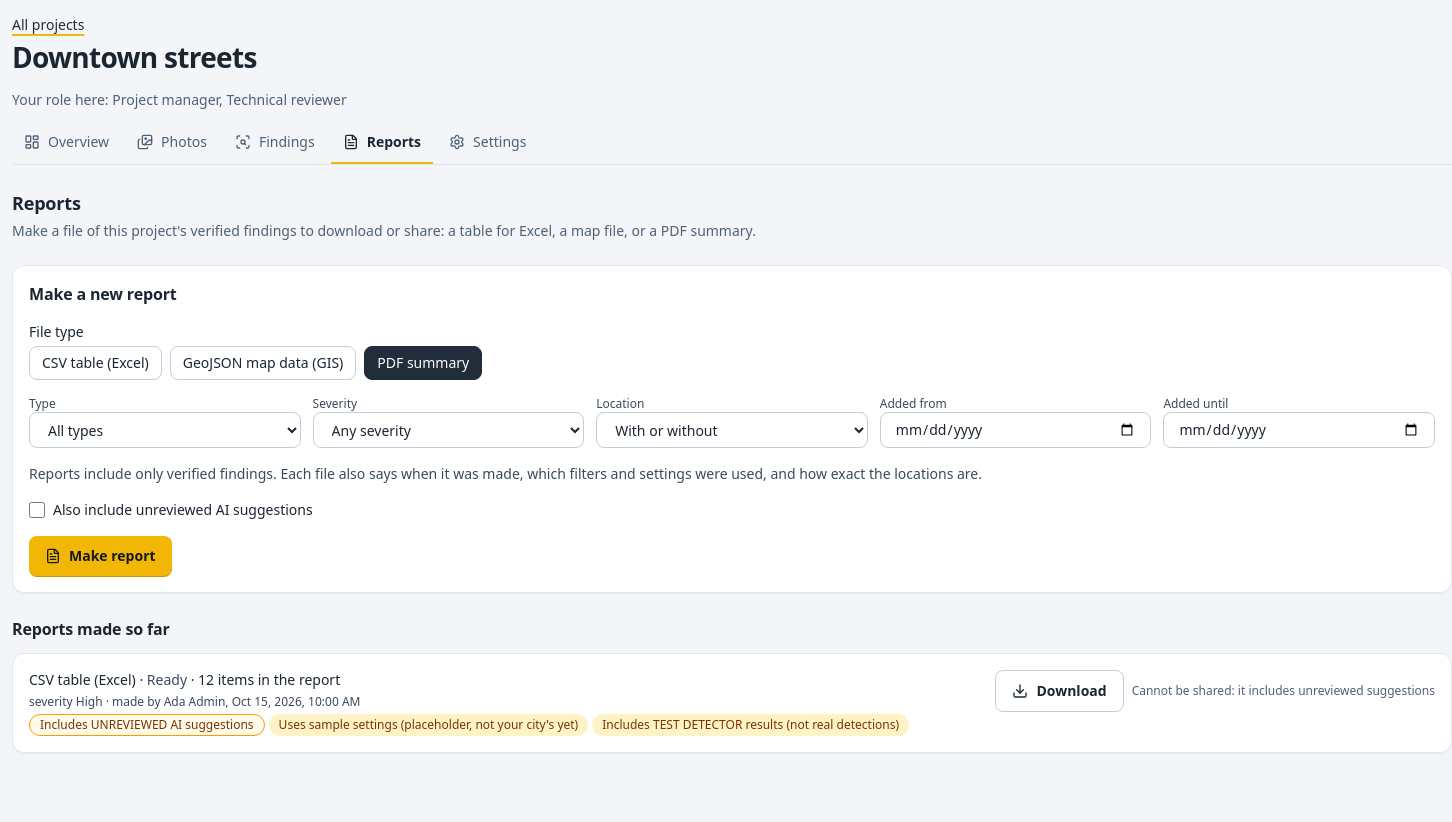
Test case: Reports › warns prominently when unreviewed data is included and never offers sharing for it
This screenshot has width=1452, height=822.
Click the checkbox labelled "Also include unreviewed AI suggestions" at (37, 510), box 29,502 -> 45,518
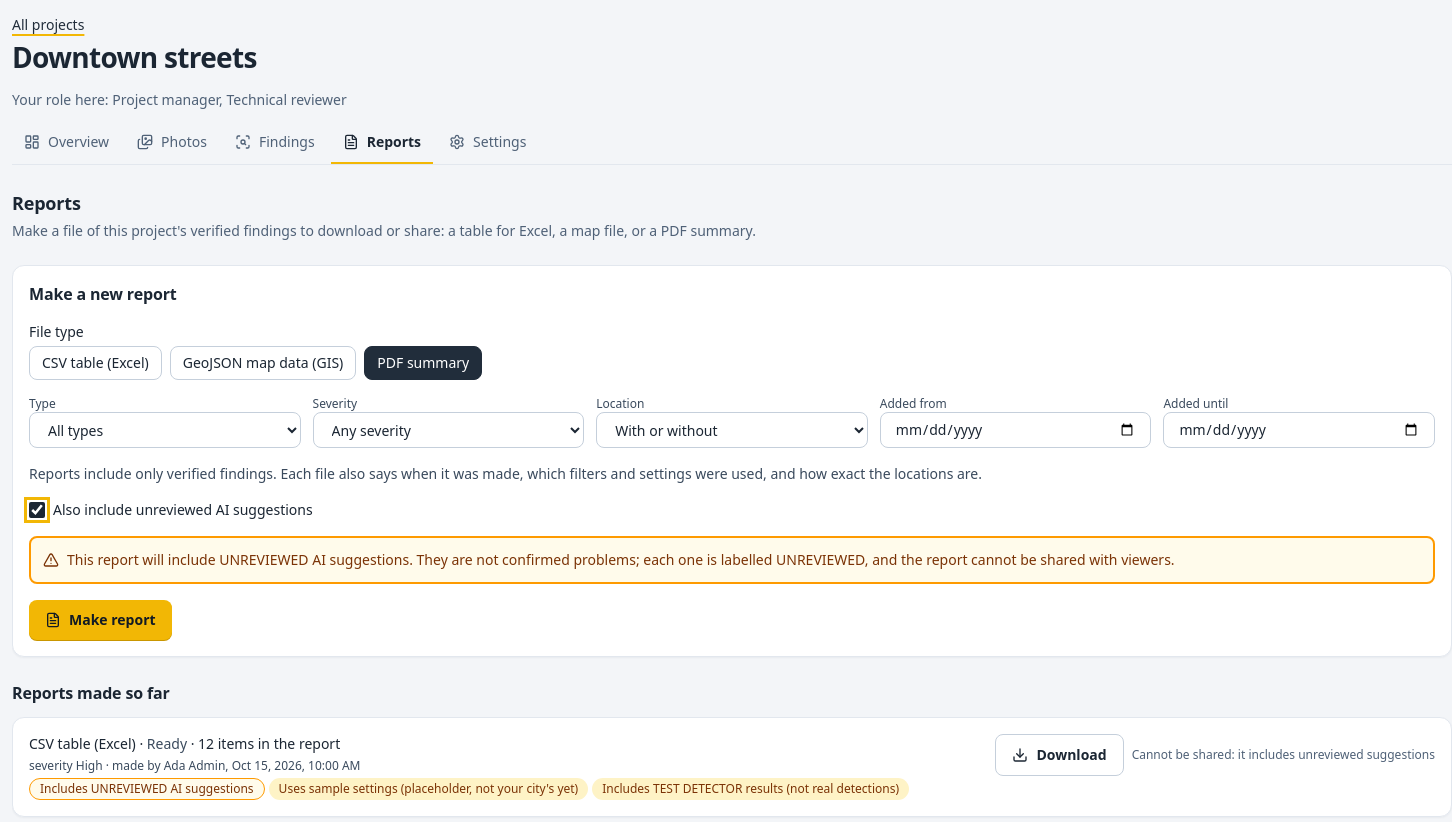
Expected: the text "Includes UNREVIEWED AI suggestions" is shown, 29,778 -> 265,800
Now the message shows "This report will include UNREVIEWED AI suggestions", box 67,550 -> 1175,569
